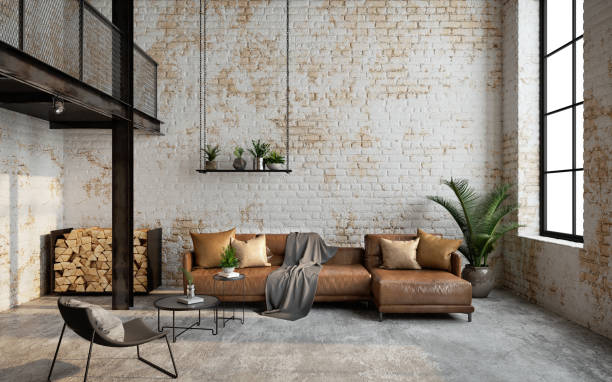chair: (47, 297, 181, 375)
large plant: (430, 172, 523, 299)
side table: (211, 275, 250, 327)
small plant: (216, 249, 242, 279), (197, 139, 222, 169), (246, 139, 265, 169), (230, 144, 248, 170), (266, 147, 285, 171)
sofa: (180, 227, 476, 326)
table: (155, 294, 222, 341)
